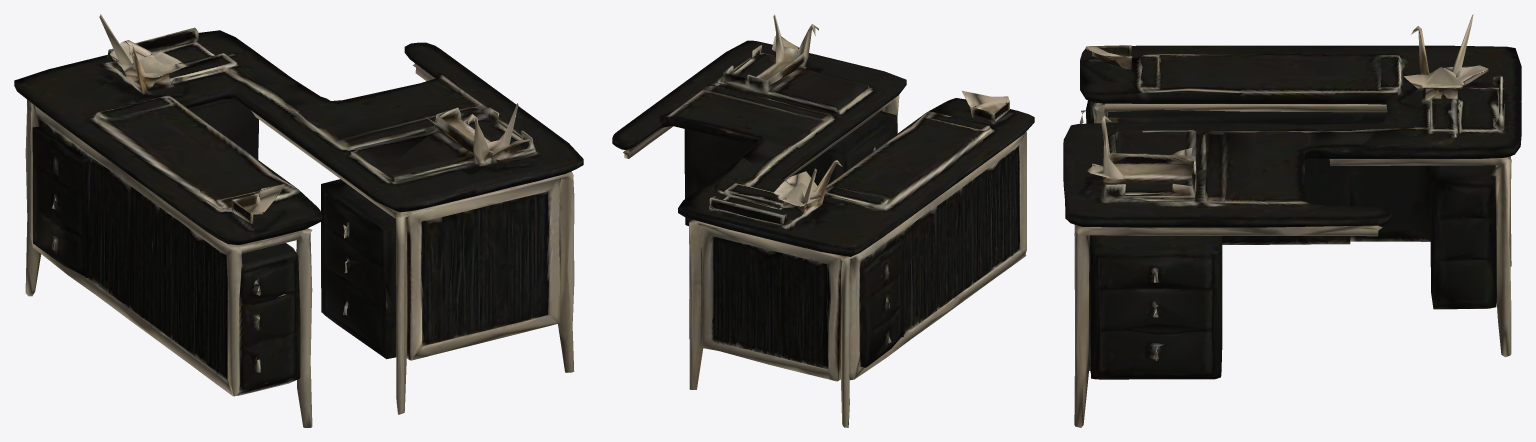
Rendered from au_furn_desk_imperial.glb.
The picture shows the model from 3 angles, left to right: view 1: azimuth 30°, elevation 25°; view 2: azimuth 150°, elevation 25°; view 3: azimuth 270°, elevation 25°; orthographic projection. The views are drawn at different scales.
Parts seen in each view (by area): view 1: tripo_node_2387f588-1816-426d-a033-eb8b596960e6; view 2: tripo_node_2387f588-1816-426d-a033-eb8b596960e6; view 3: tripo_node_2387f588-1816-426d-a033-eb8b596960e6.
Boxes of the visible parts, left/top/right/bottom form: tripo_node_2387f588-1816-426d-a033-eb8b596960e6: left=14, top=14, right=583, bottom=427; tripo_node_2387f588-1816-426d-a033-eb8b596960e6: left=612, top=14, right=1034, bottom=427; tripo_node_2387f588-1816-426d-a033-eb8b596960e6: left=1063, top=14, right=1521, bottom=427.
Bounding box in the file's own units: 0.8764 × 0.6545 × 0.9684.
1 material, 1 textured.
